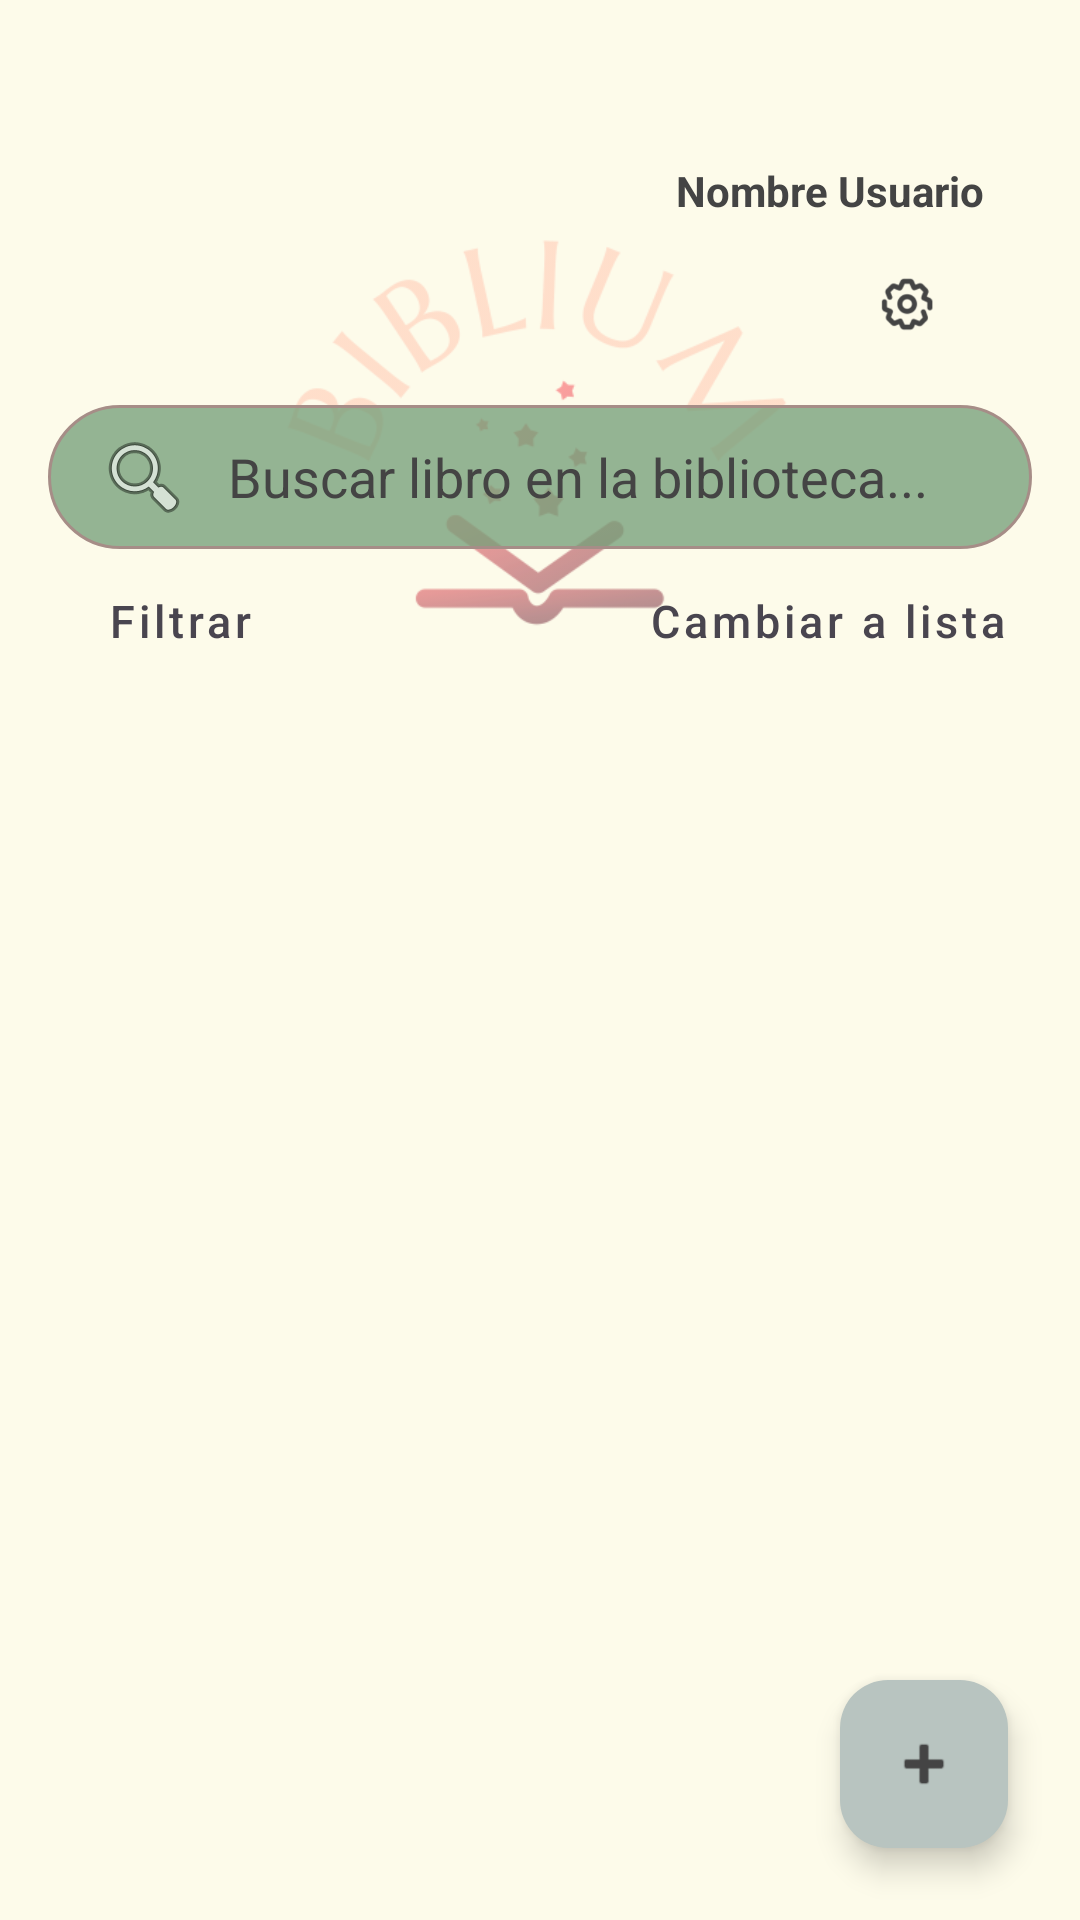

Locate icon controls on the screen. Image size 1080 x 1920, boxes as bbox=(x1, y1, x2, y2).
Abrir ajustes: bbox=(881, 278, 933, 330)
add: bbox=(840, 1680, 1008, 1848)
